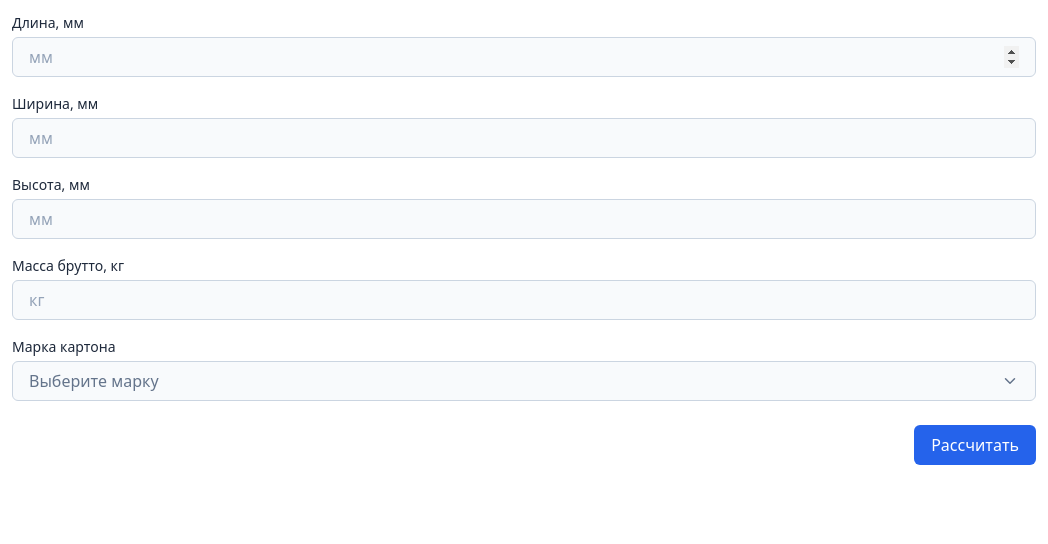
Test: BoxInputForm › загрузка марок картона › отображает марки в выпадающем списке после загрузки
This screenshot has width=1048, height=544.
Step 1. Click the button with test id "dropdown-select" → (94, 381), box [12, 361, 1036, 401]
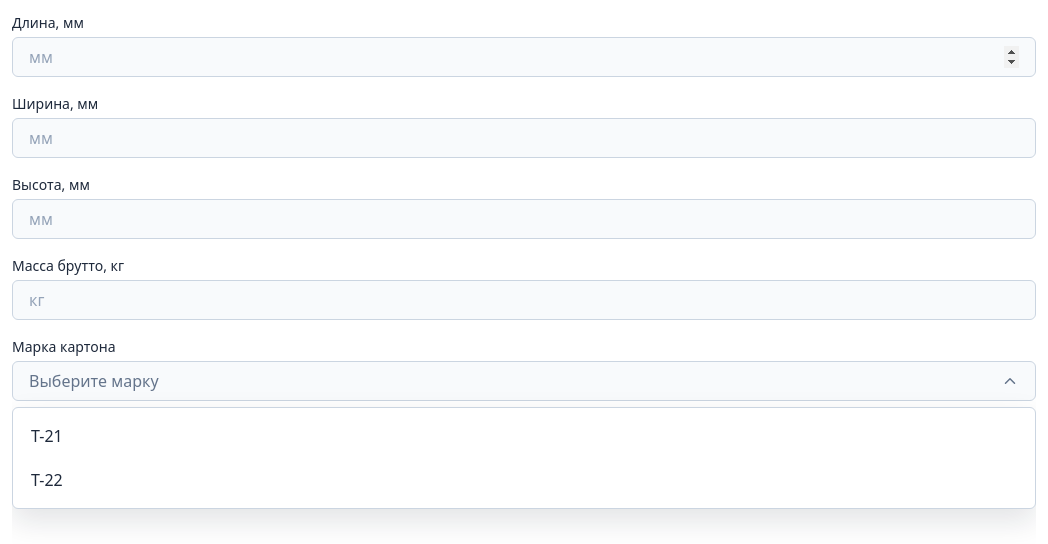
Check: the number of options with test id "dropdown-option" is 2, box [31, 425, 63, 447]; [31, 469, 63, 491]
Check: the option with test id "dropdown-option" reads "Т-21", box [31, 425, 63, 447]
Check: the option with test id "dropdown-option" reads "Т-22", box [31, 469, 63, 491]
